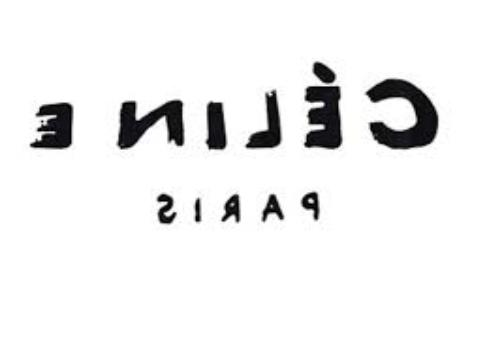CELINE: (18, 55, 443, 169)
